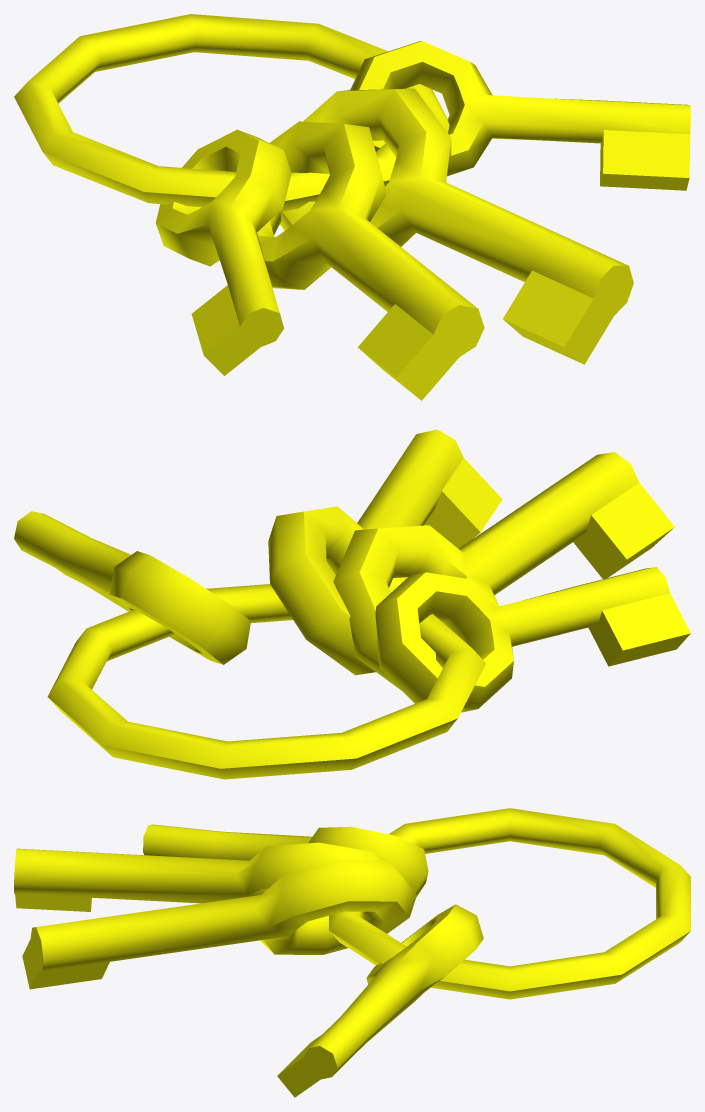
File: kaykit-keyring.glb
3 renders of one model, top to bottom at view 1: azimuth 30°, elevation 25°; view 2: azimuth 150°, elevation 25°; view 3: azimuth 270°, elevation 25°, orthographic. The views are drawn at different scales.
Parts seen in each view (by area): view 1: keyring; view 2: keyring; view 3: keyring.
Boxes of the visible parts, box(x1,y1,x2,y2) form: keyring: box(14, 14, 690, 400); keyring: box(14, 429, 690, 779); keyring: box(14, 808, 690, 1097).
Size of the model in its own units: 1.03 by 0.2613 by 1.21.
